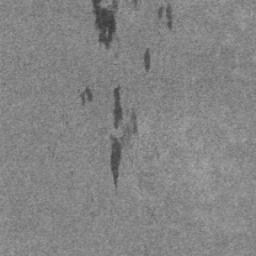Iron scale compression: (92, 0, 119, 49), (111, 136, 122, 186), (114, 86, 123, 129), (79, 88, 92, 104), (131, 108, 138, 134), (143, 49, 151, 71), (167, 5, 174, 30)
